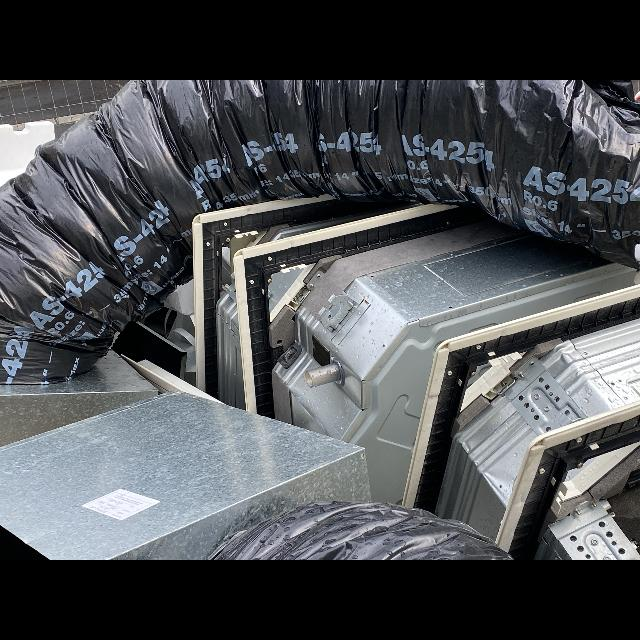Galvanized Steel: (272, 235, 626, 442), (0, 391, 370, 560), (434, 318, 640, 542), (0, 351, 158, 446), (533, 500, 640, 560), (216, 279, 245, 411), (271, 217, 353, 240), (268, 269, 304, 312)
